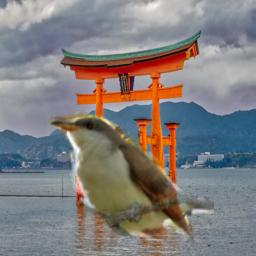Cuckoo: (44, 103, 214, 243)
